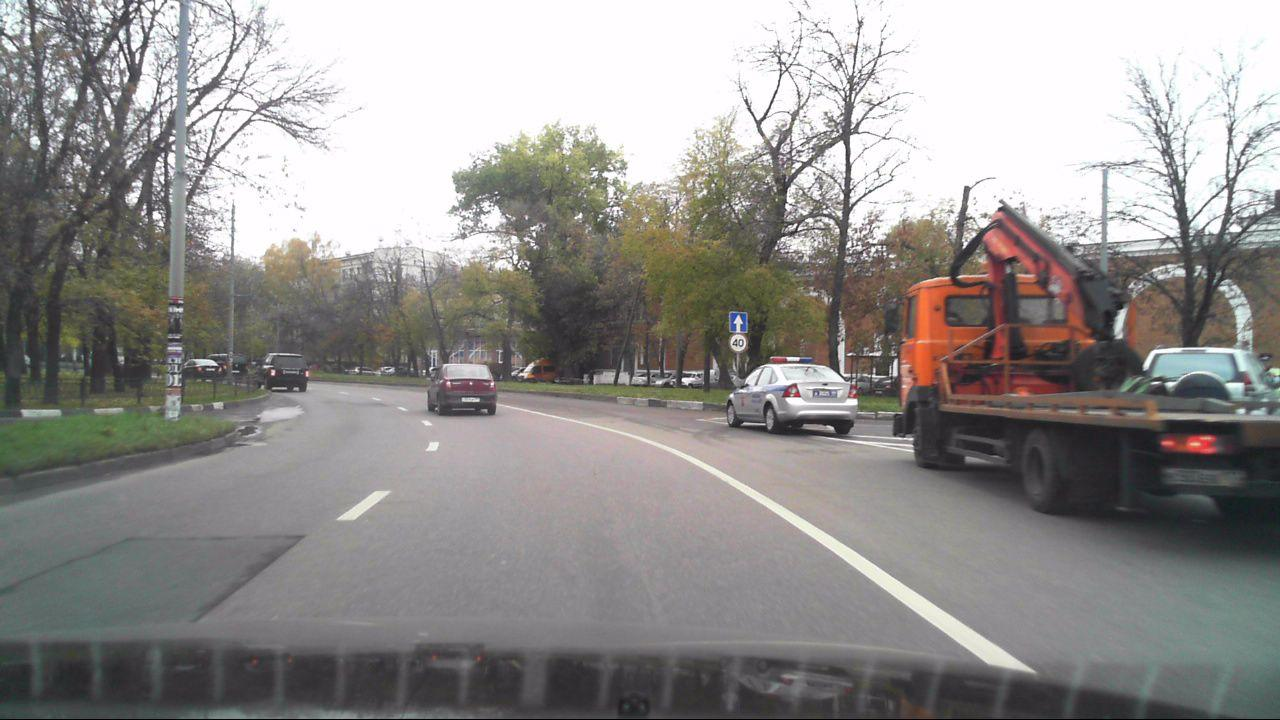3_24: (729, 332, 747, 352)
5_5: (728, 309, 749, 334)
